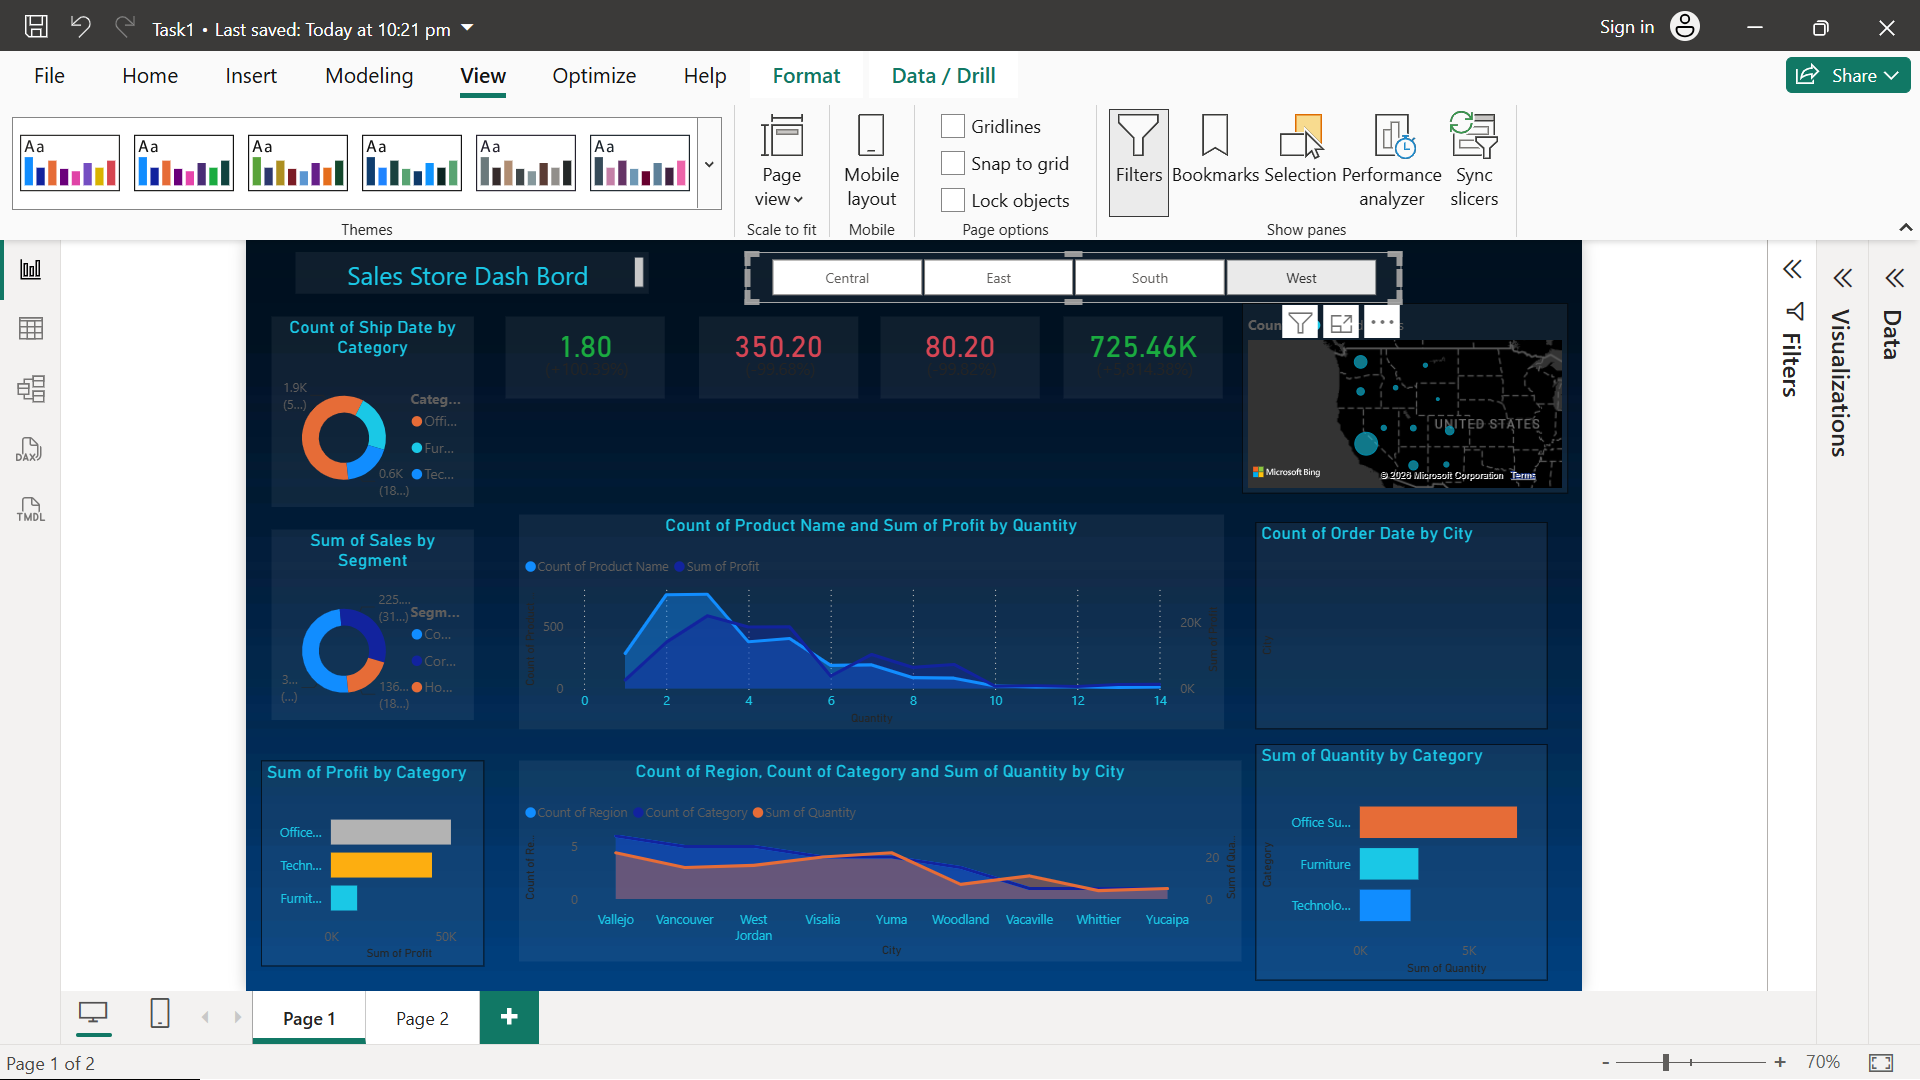

What the dashboard file says about the page in this screenshot:
{"tool":"powerbi","page":{"name":"Page 1","canvas":[1280,720],"ordinal":0},"visuals":[{"type":"clusteredBarChart","fields":{"Category":["Sample - Superstore.Category"],"Y":["Sum(Sample - Superstore.Quantity)"]},"box":[967.1,482.9,279.7,226.8],"z":0},{"type":"clusteredBarChart","fields":{"Category":["Sample - Superstore.City"],"Y":["CountNonNull(Sample - Superstore.Order Date)"]},"box":[967.1,270,279.7,198.4],"z":1000},{"type":"clusteredBarChart","fields":{"Y":["Sum(Sample - Superstore.Profit)"],"Category":["Sample - Superstore.Category"]},"box":[14.3,498.6,214.3,197.1],"z":2000},{"type":"areaChart","fields":{"Y":["CountNonNull(Sample - Superstore.Product Name)"],"Category":["Sample - Superstore.Quantity"],"Y2":["Sum(Sample - Superstore.Profit)"]},"box":[261.4,262.9,675.7,205.7],"z":3000},{"type":"areaChart","fields":{"Y":["CountNonNull(Sample - Superstore.Region)","CountNonNull(Sample - Superstore.Category)"],"Category":["Sample - Superstore.City"],"Y2":["Sum(Sample - Superstore.Quantity)"]},"box":[261.4,498.6,692.9,192.9],"z":4000},{"type":"map","fields":{"Category":["Sample - Superstore.State"],"Series":["Sample - Superstore.Country"],"Size":["CountNonNull(Sample - Superstore.Region)"]},"box":[954.3,60,312.9,182.9],"z":5000},{"type":"donutChart","fields":{"Y":["Sum(Sample - Superstore.Sales)"],"Category":["Sample - Superstore.Segment"]},"box":[24.3,277.1,194.3,182.9],"z":6000},{"type":"donutChart","fields":{"Y":["CountNonNull(Sample - Superstore.Ship Date)"],"Category":["Sample - Superstore.Category"]},"box":[24.3,72.9,194.3,182.9],"z":7000},{"type":"slicer","fields":{"Values":["Sample - Superstore.Region"]},"box":[478.6,11.4,628.6,48.6],"z":8000},{"type":"textbox","box":[47.1,11.4,338.6,40],"z":9000},{"type":"kpi","fields":{"Indicator":["Sum(Sample - Superstore.Discount)"],"Goal":["Sum(Sample - Superstore.Profit)"],"TrendLine":["Sample - Superstore.City"]},"box":[248.6,72.9,152.9,78.6],"z":10000},{"type":"kpi","fields":{"Indicator":["Sum(Sample - Superstore.Discount)"],"Goal":["Sum(Sample - Superstore.Profit)"],"TrendLine":["Sample - Superstore.Category"]},"box":[608.6,72.9,152.9,78.6],"z":11000},{"type":"kpi","fields":{"Indicator":["Sum(Sample - Superstore.Discount)"],"Goal":["Sum(Sample - Superstore.Profit)"],"TrendLine":["Sample - Superstore.Region"]},"box":[434.3,72.9,152.9,78.6],"z":12000},{"type":"kpi","fields":{"Indicator":["Sum(Sample - Superstore.Sales)"],"Goal":["Sum(Sample - Superstore.Quantity)"],"TrendLine":["Sample - Superstore.Region"]},"box":[784.3,72.9,152.9,78.6],"z":13000}]}

Visuals, with their boxes on the page's 1280x720 design canvas (x1, y1, x2, y2). These are canvas units, not pixel positions in the 1920x1080 screenshot, which may show the page scaled, cropped or inside an application window:
clusteredBarChart - Sample - Superstore.Category x Sum(Sample - Superstore.Quantity): 967,483,1247,710
clusteredBarChart - Sample - Superstore.City x CountNonNull(Sample - Superstore.Order Date): 967,270,1247,468
clusteredBarChart - Sum(Sample - Superstore.Profit) x Sample - Superstore.Category: 14,499,229,696
areaChart - CountNonNull(Sample - Superstore.Product Name) x Sample - Superstore.Quantity: 261,263,937,469
areaChart - CountNonNull(Sample - Superstore.Region) x CountNonNull(Sample - Superstore.Category): 261,499,954,692
map - Sample - Superstore.State x Sample - Superstore.Country: 954,60,1267,243
donutChart - Sum(Sample - Superstore.Sales) x Sample - Superstore.Segment: 24,277,219,460
donutChart - CountNonNull(Sample - Superstore.Ship Date) x Sample - Superstore.Category: 24,73,219,256
slicer - Sample - Superstore.Region: 479,11,1107,60
textbox: 47,11,386,51
kpi - Sum(Sample - Superstore.Discount) x Sum(Sample - Superstore.Profit): 249,73,402,152
kpi - Sum(Sample - Superstore.Discount) x Sum(Sample - Superstore.Profit): 609,73,762,152
kpi - Sum(Sample - Superstore.Discount) x Sum(Sample - Superstore.Profit): 434,73,587,152
kpi - Sum(Sample - Superstore.Sales) x Sum(Sample - Superstore.Quantity): 784,73,937,152
